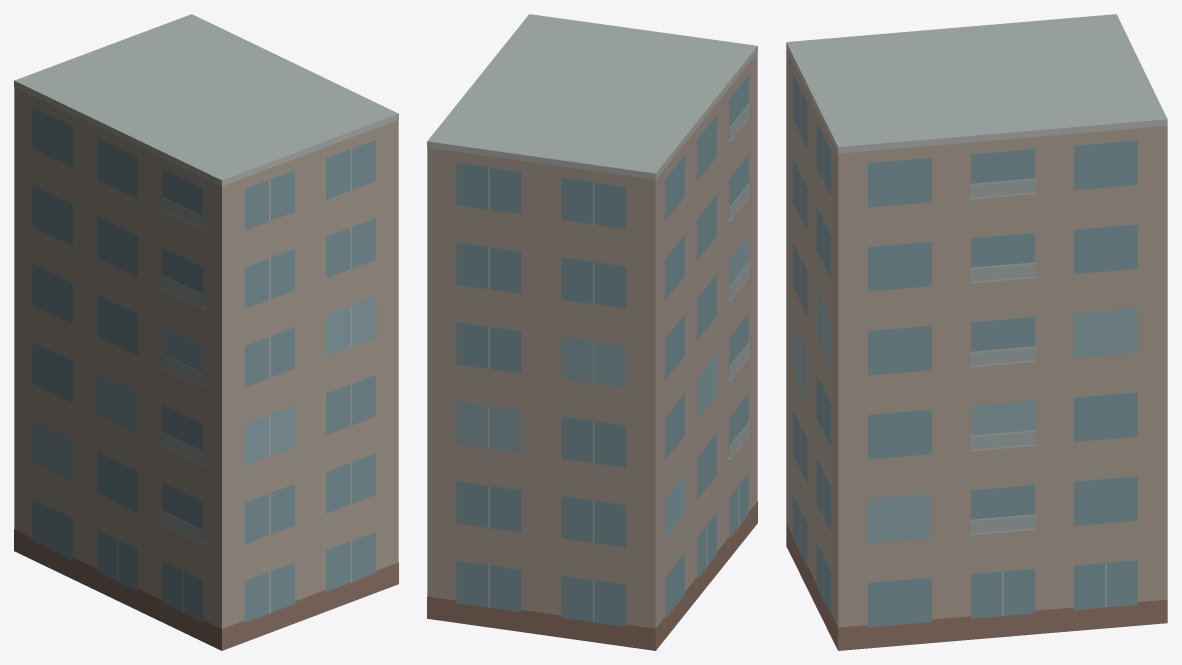
The model's file is survey-upis-32824313.glb.
3 renders of one model, left to right at view 1: azimuth 30°, elevation 25°; view 2: azimuth 150°, elevation 25°; view 3: azimuth 270°, elevation 25°, orthographic. The views are drawn at different scales.
Parts seen in each view (by area): view 1: survey-upis-32824313.tmp; view 2: survey-upis-32824313.tmp; view 3: survey-upis-32824313.tmp.
Part boxes in pixels (x1,y1,x2,y2): survey-upis-32824313.tmp: [14, 14, 398, 650]; survey-upis-32824313.tmp: [427, 14, 757, 650]; survey-upis-32824313.tmp: [786, 14, 1167, 650].
Bounding box in the file's own units: 10.63 × 18.75 × 12.87.
